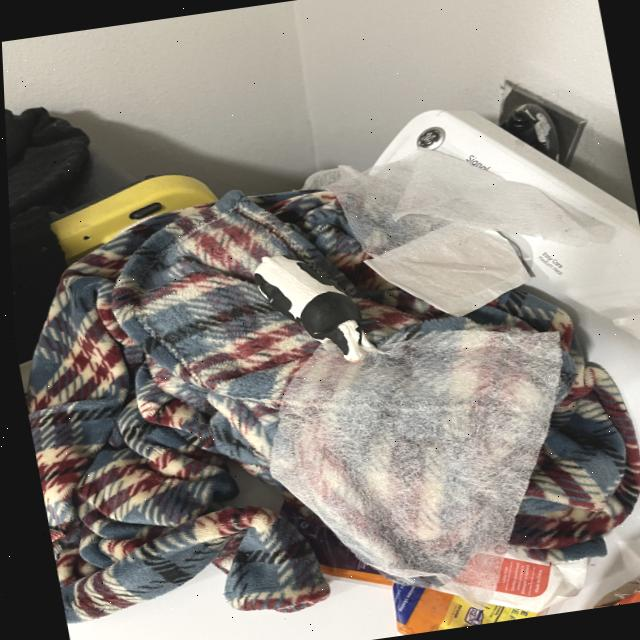cow: (240, 239, 389, 373)
